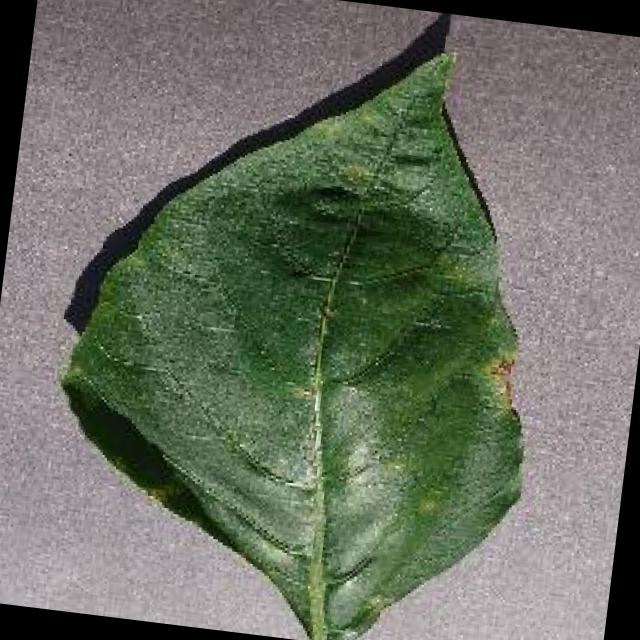Chilli_Bacterial_Spot: (28, 3, 578, 640), (476, 343, 526, 410), (409, 488, 445, 524), (484, 351, 517, 384)
